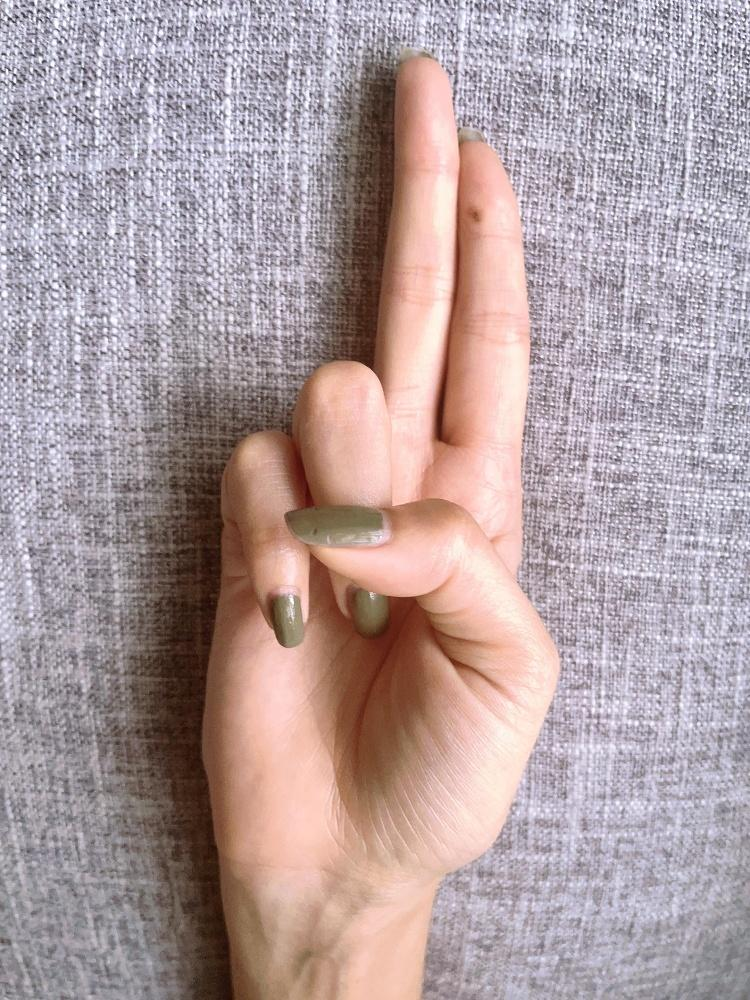u: (194, 52, 564, 870)
